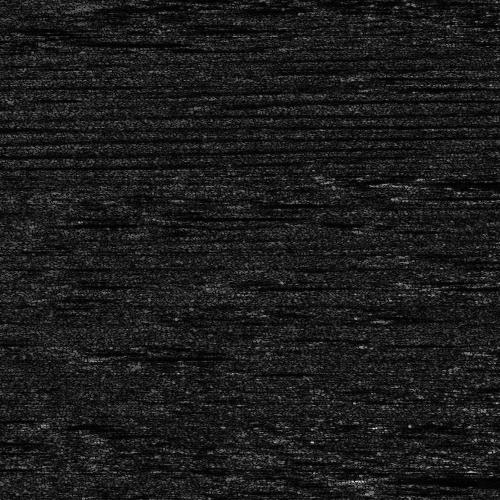rock: (359, 175, 422, 188), (66, 349, 129, 362), (126, 212, 179, 219), (332, 474, 395, 479), (408, 193, 449, 198)
shadow: (98, 349, 215, 362), (391, 175, 500, 188), (153, 212, 271, 219), (364, 474, 500, 479), (429, 193, 500, 198), (0, 125, 60, 130)
